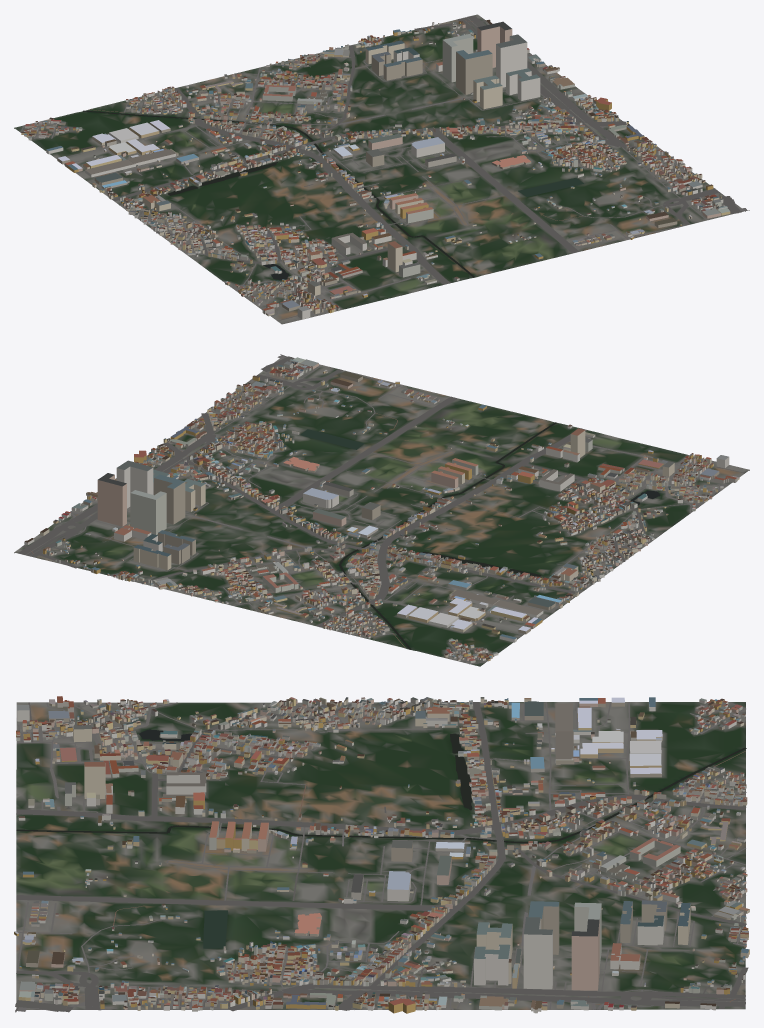
The picture shows the model from 3 angles, top to bottom: view 1: azimuth 30°, elevation 25°; view 2: azimuth 150°, elevation 25°; view 3: azimuth 270°, elevation 25°; orthographic projection. The views are drawn at different scales.
Visible parts, largest first — view 1: ground, buildings, roads, water; view 2: ground, buildings, roads, water; view 3: ground, buildings, roads, water.
Boxes of the visible parts, x1,y1,x2,y2 form: ground: (14, 14, 745, 324); buildings: (21, 19, 730, 319); roads: (20, 15, 749, 321); water: (83, 110, 583, 279); ground: (14, 356, 749, 666); buildings: (24, 357, 739, 662); roads: (18, 354, 744, 664); water: (300, 422, 660, 649); ground: (16, 702, 745, 1009); buildings: (14, 696, 749, 1013); roads: (15, 702, 748, 1012); water: (16, 729, 746, 948).
Bounding box in the file's own units: 1424 × 120 × 1414.
